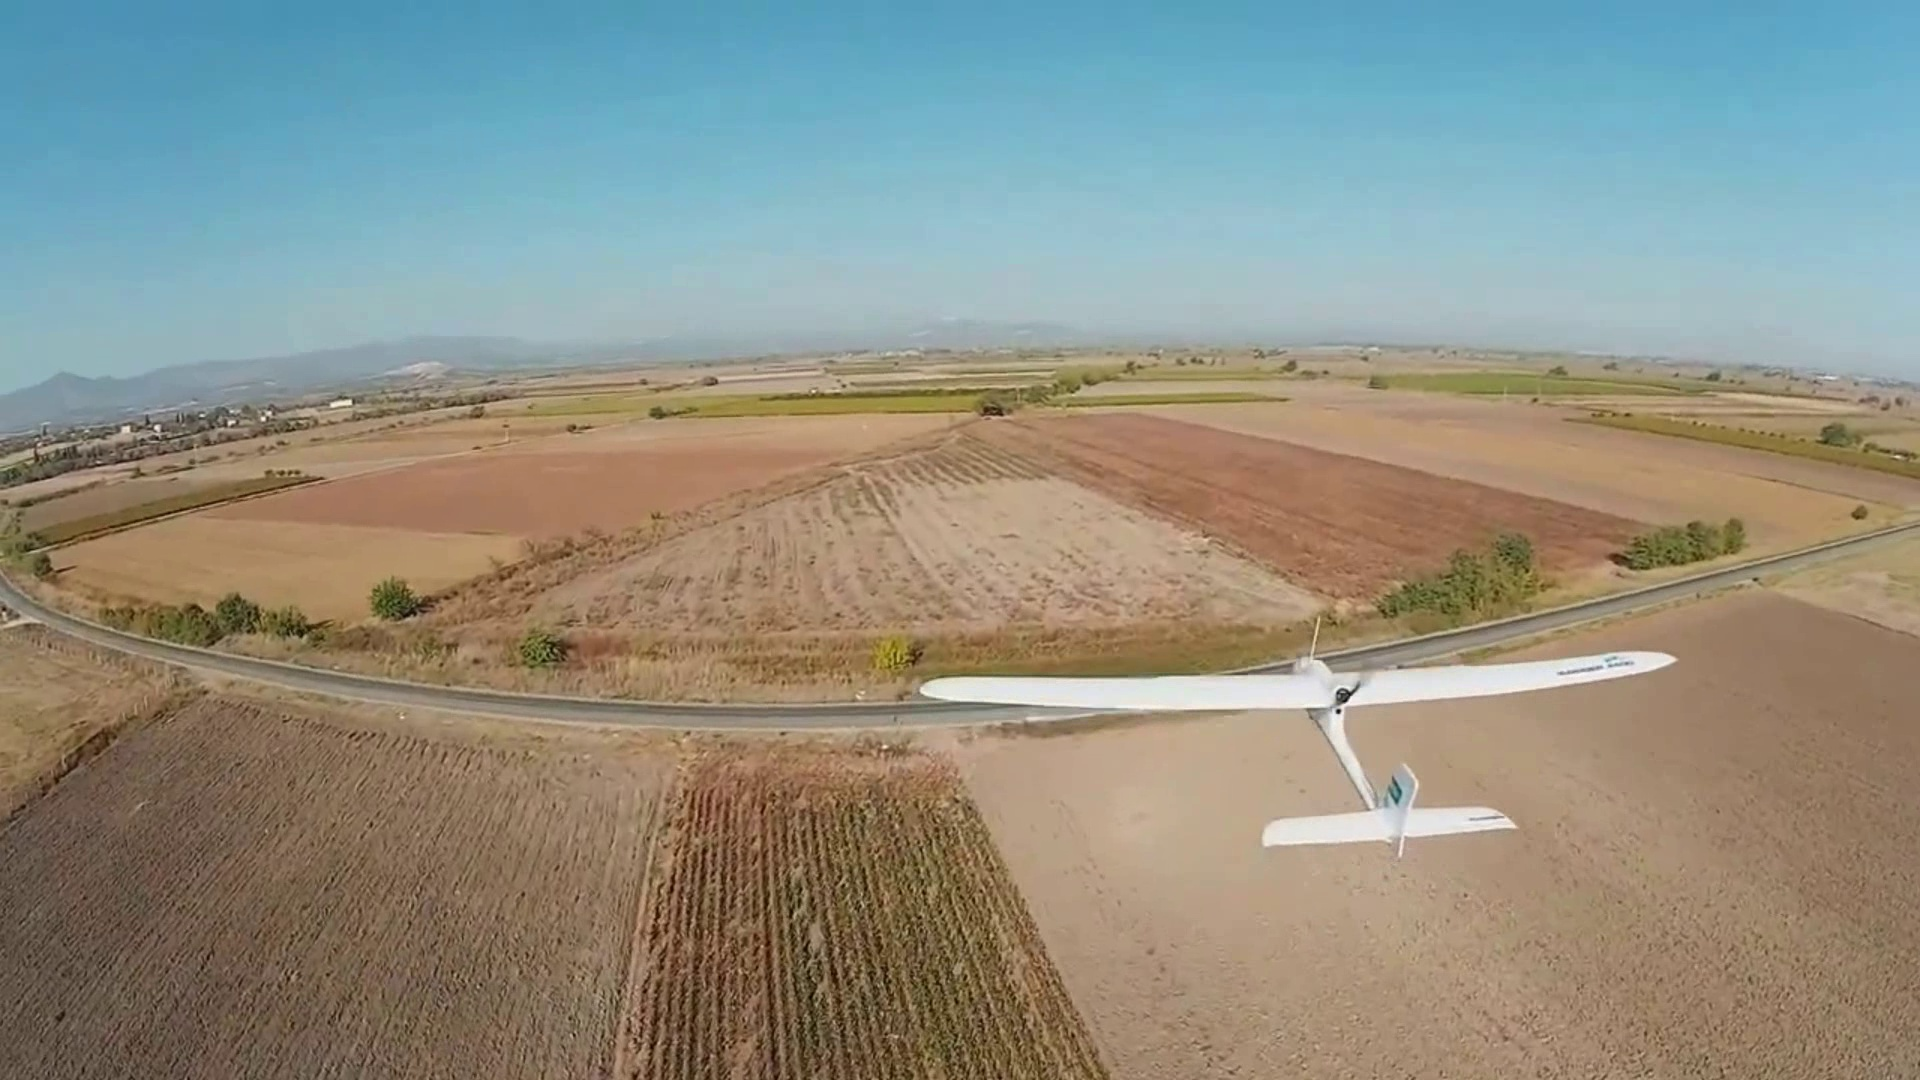airplane: (889, 632, 1680, 843)
